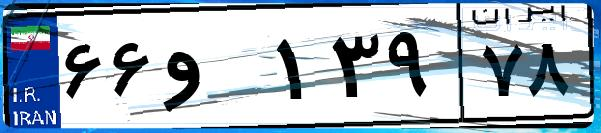1: (270, 28, 330, 110)
3: (330, 28, 385, 110)
6: (57, 26, 110, 100), (110, 28, 158, 98)
7: (475, 38, 525, 113)
8: (525, 38, 570, 115)
9: (385, 28, 445, 110)
و: (158, 20, 270, 120)
